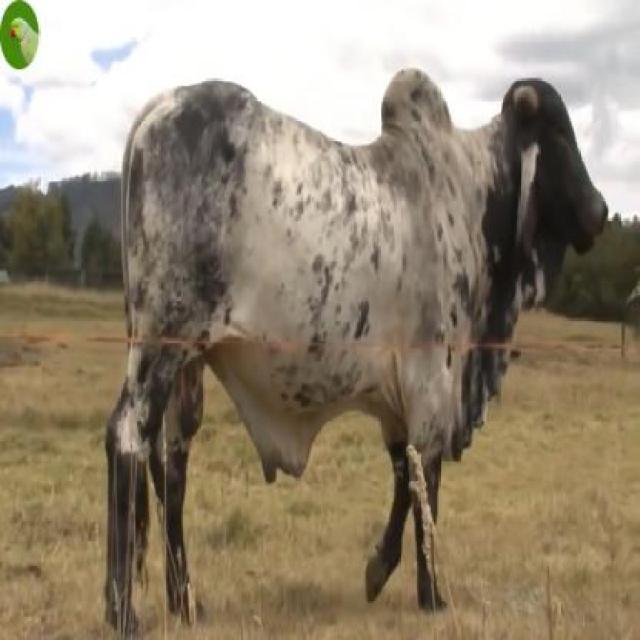Cow: (103, 66, 608, 639)
